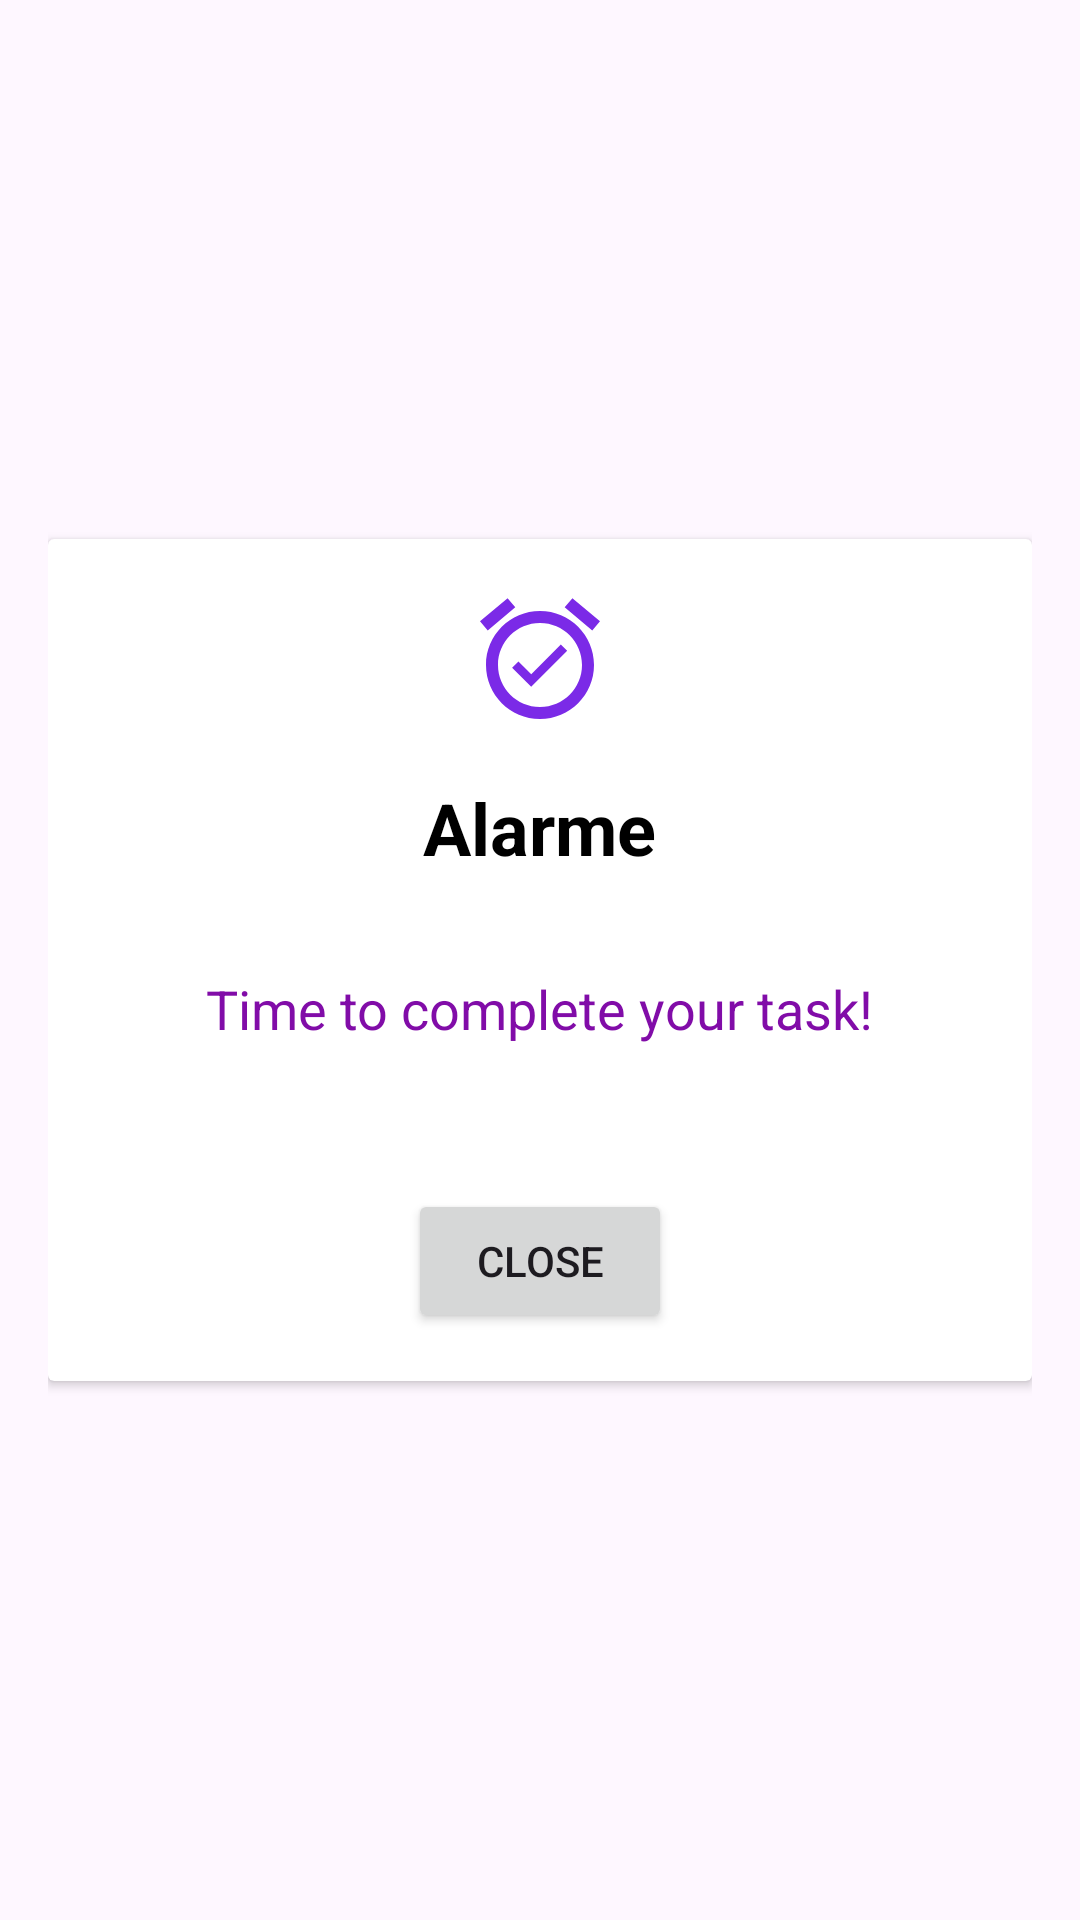

Screen size 1080*1920. Icon name, then its center in pixels as (x=x, y=y):
alarm on: (x=540, y=658)
